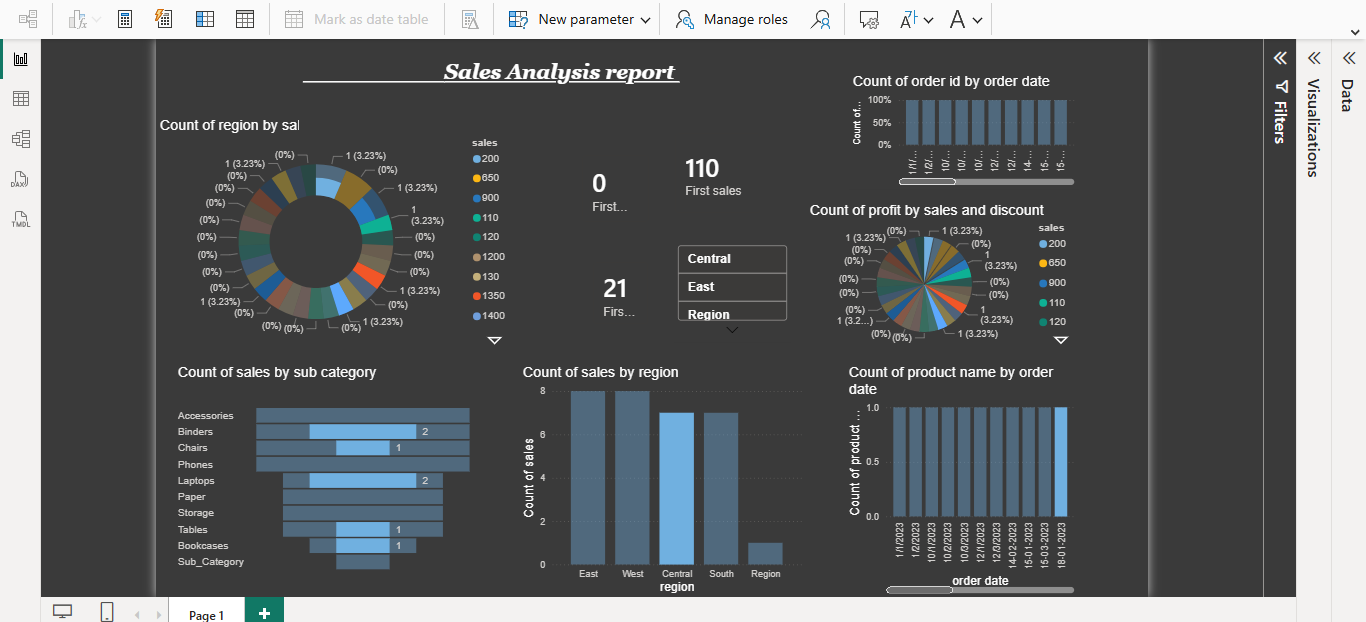

What the dashboard file says about the page in this screenshot:
{"tool":"powerbi","page":{"name":"Page 1","canvas":[1280,720],"ordinal":0},"visuals":[{"type":"donutChart","fields":{"Y":["CountNonNull(Table.region)"],"Category":["Table.sales"]},"box":[0,100.8,468.7,300.7],"z":0},{"type":"funnel","fields":{"Category":["Table.sub category"],"Y":["CountNonNull(Table.sales)"]},"box":[23.5,419.9,391.4,300.7],"z":1000},{"type":"columnChart","fields":{"Category":["Table.region"],"Y":["CountNonNull(Table.sales)"]},"box":[468.7,419.9,369.6,300.7],"z":2000},{"type":"lineStackedColumnComboChart","fields":{"Category":["Table.order date"],"Y":["CountNonNull(Table.product name)"]},"box":[888.6,419.9,300.7,300.7],"z":3000},{"type":"cardVisual","fields":{"Data":["Min(Table.sales)"]},"box":[653.4,104.1,144.5,137.7],"z":4000},{"type":"cardVisual","fields":{"Data":["Min(Table.profit)"]},"box":[547.6,270.4,105.8,114.2],"z":5000},{"type":"cardVisual","fields":{"Data":["Min(Table.discount)"]},"box":[532.5,132.7,120.9,120.9],"z":6000},{"type":"hundredPercentStackedColumnChart","fields":{"Category":["Table.order date"],"Y":["CountNonNull(Table.order id)"]},"box":[893.6,43.7,295.6,149.5],"z":7000},{"type":"cardVisual","fields":{"Data":["Min(Table.profit)"],"Rows":["Table.region"]},"box":[668.6,241.9,151.2,149.5],"z":8000},{"type":"pieChart","fields":{"Category":["Table.sales"],"Y":["CountNonNull(Table.profit)"],"Series":["Table.discount"]},"box":[838.2,210,361.2,191.5],"z":9000},{"type":"textbox","box":[184.8,23.5,708.9,95.7],"z":10000}]}

Visuals, with their boxes on the page's 1280x720 design canvas (x1, y1, x2, y2). These are canvas units, not pixel positions in the 1366x622 screenshot, which may show the page scaled, cropped or inside an application window:
donutChart - CountNonNull(Table.region) x Table.sales: select_region(0, 101, 469, 402)
funnel - Table.sub category x CountNonNull(Table.sales): select_region(24, 420, 415, 721)
columnChart - Table.region x CountNonNull(Table.sales): select_region(469, 420, 838, 721)
lineStackedColumnComboChart - Table.order date x CountNonNull(Table.product name): select_region(889, 420, 1189, 721)
cardVisual - Min(Table.sales): select_region(653, 104, 798, 242)
cardVisual - Min(Table.profit): select_region(548, 270, 653, 385)
cardVisual - Min(Table.discount): select_region(532, 133, 653, 254)
hundredPercentStackedColumnChart - Table.order date x CountNonNull(Table.order id): select_region(894, 44, 1189, 193)
cardVisual - Min(Table.profit) x Table.region: select_region(669, 242, 820, 391)
pieChart - Table.sales x CountNonNull(Table.profit): select_region(838, 210, 1199, 402)
textbox: select_region(185, 24, 894, 119)
